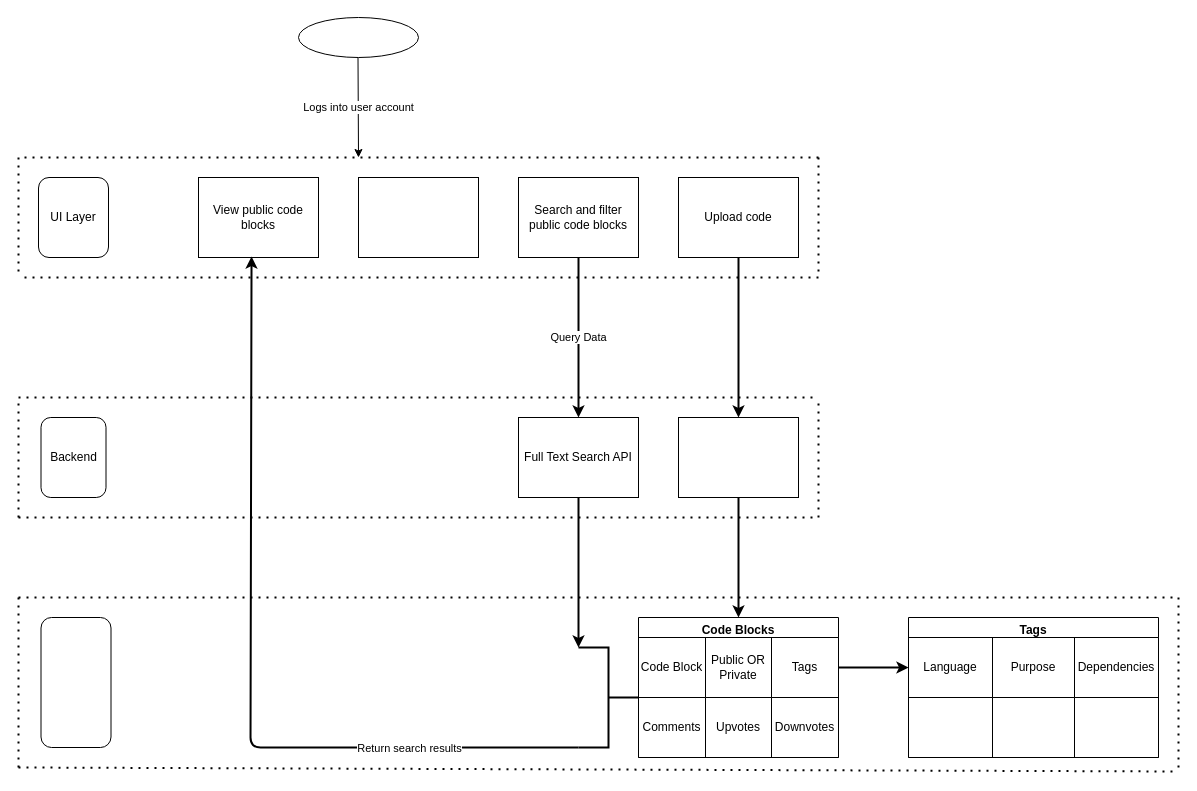
Image size: 1197x791. Some labels were removed from this diagram. Here are the shapes that lost their labels. From the top down, the centre of each, then its label:
At point 358,37: "User".
At point 418,217: "Comment on and upvote public code blocks".
At point 738,457: "Index Data into DB".
At point 75,682: "Data Persistence Layer".
